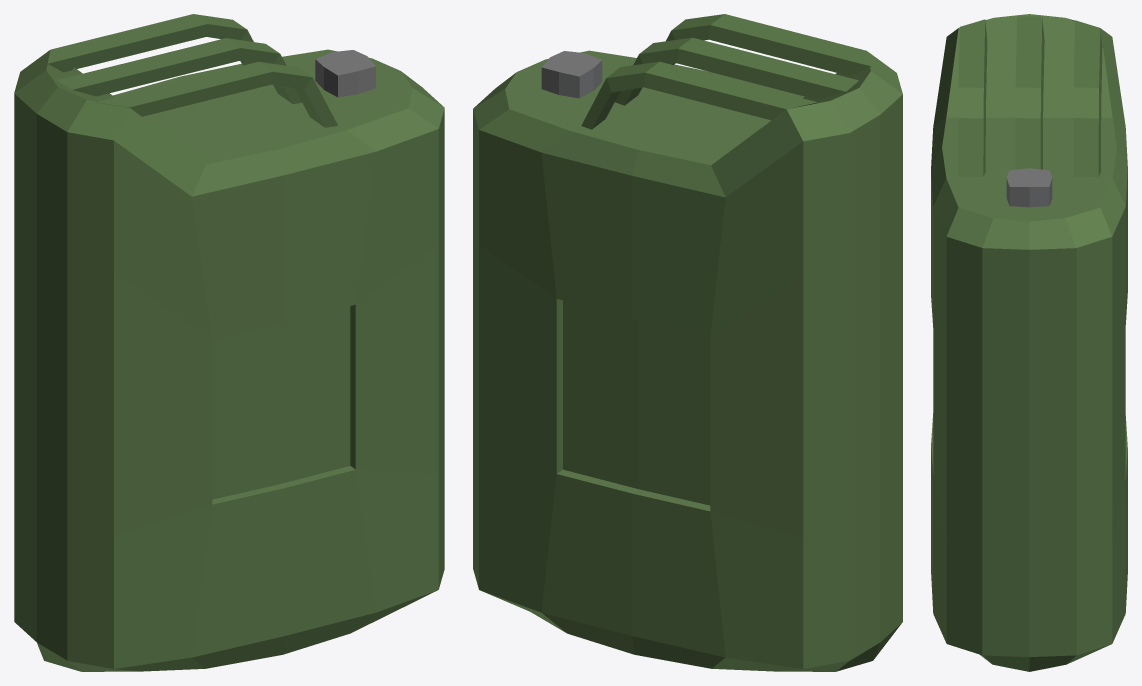
The model's file is Канистра.fbx.
3 renders of one model, left to right at view 1: azimuth 30°, elevation 25°; view 2: azimuth 150°, elevation 25°; view 3: azimuth 270°, elevation 25°, orthographic. The views are drawn at different scales.
Parts seen in each view (by area): view 1: Cube; view 2: Cube; view 3: Cube.
Part boxes in pixels (bbox=[...]): Cube: bbox=[14, 14, 444, 671]; Cube: bbox=[473, 14, 902, 671]; Cube: bbox=[931, 14, 1127, 671].
Size of the model in its own units: 199 by 283 by 99.62.
